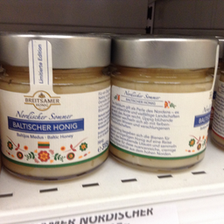honey: (1, 31, 114, 184), (113, 35, 222, 175)
